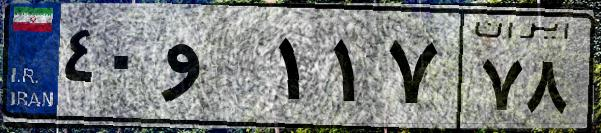0: (110, 28, 158, 98)
1: (270, 28, 330, 110), (330, 28, 385, 110)
4: (57, 26, 110, 100)
7: (385, 28, 445, 110), (475, 38, 525, 113)
8: (525, 38, 570, 115)
و: (158, 20, 270, 120)
